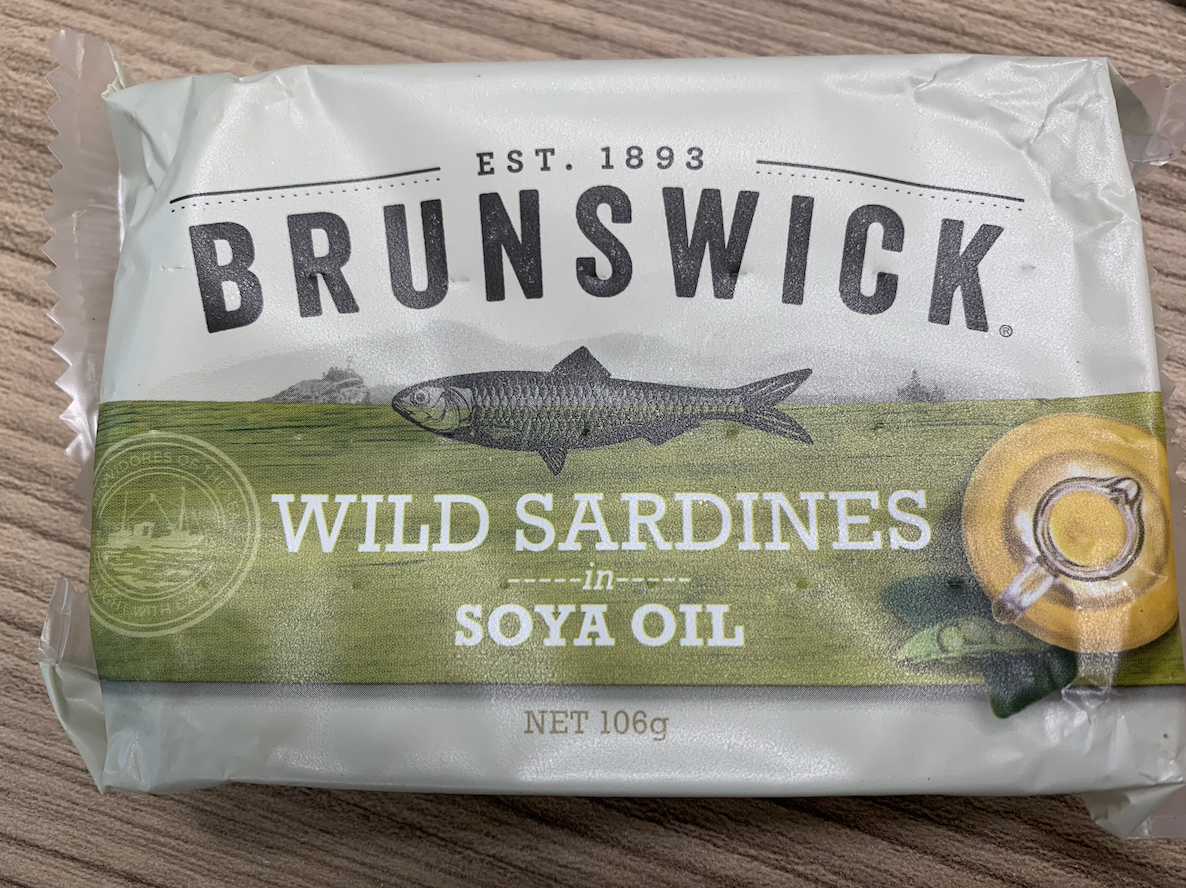sardines_100g-199g: (111, 112, 1128, 764)
